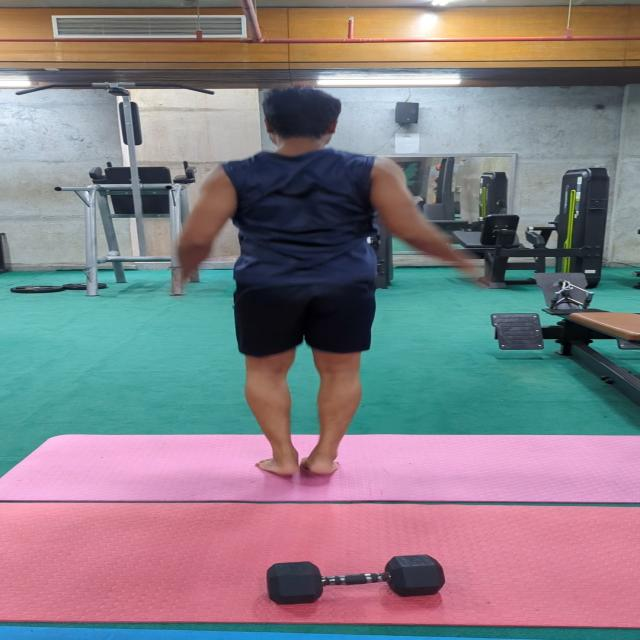Normal_JumpingJacks: (162, 99, 519, 491)
